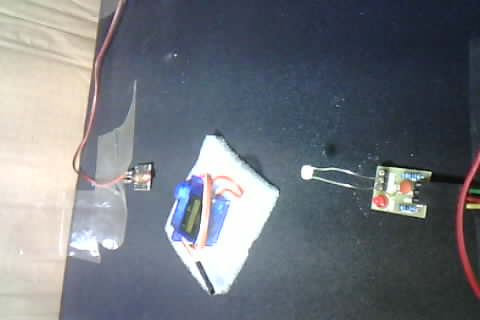motor: (162, 143, 271, 289)
